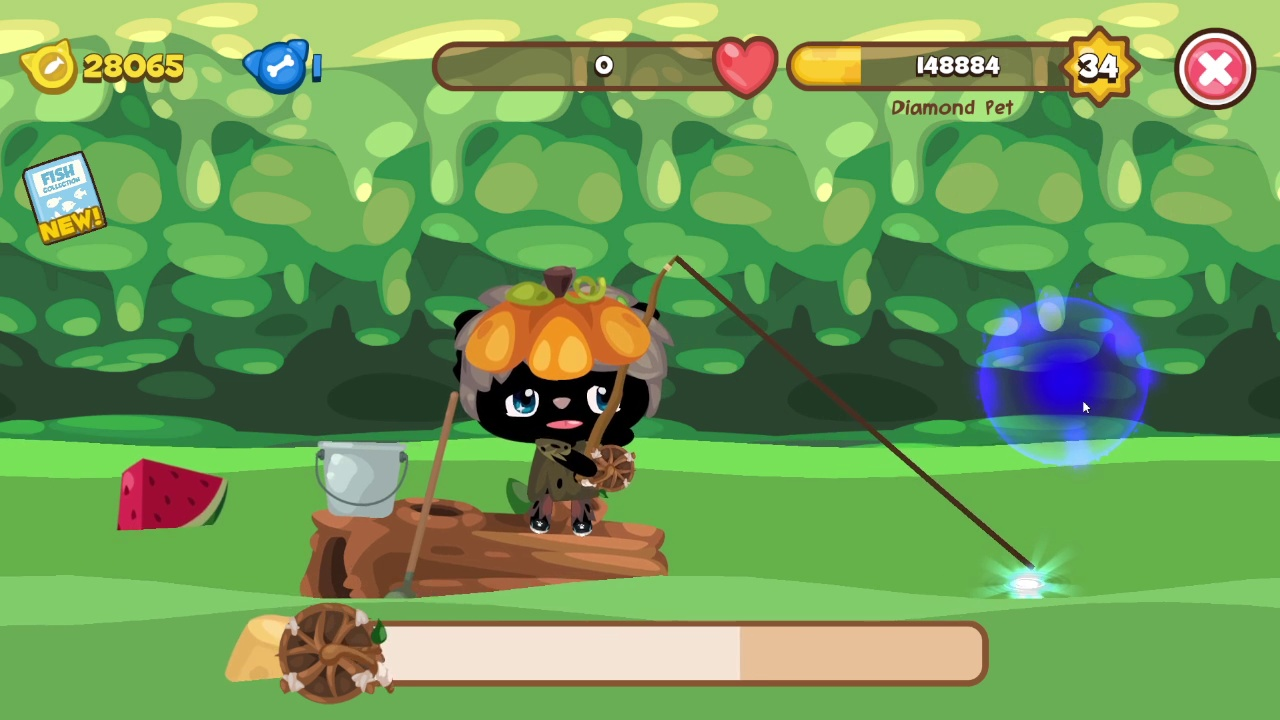point: (976, 294, 1153, 469)
